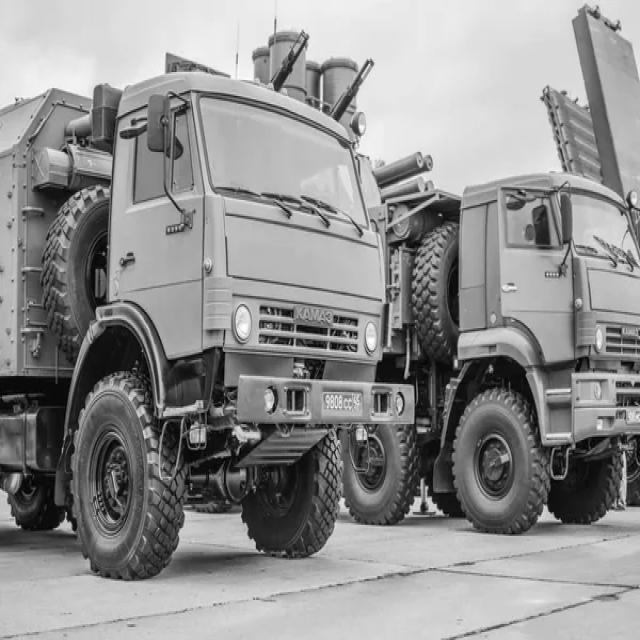Truck: (0, 45, 415, 580), (345, 152, 640, 533)
